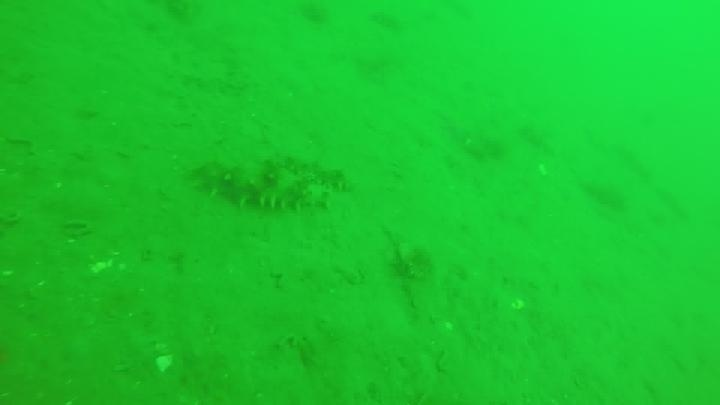holothurian: (189, 155, 350, 215), (269, 151, 354, 194)
